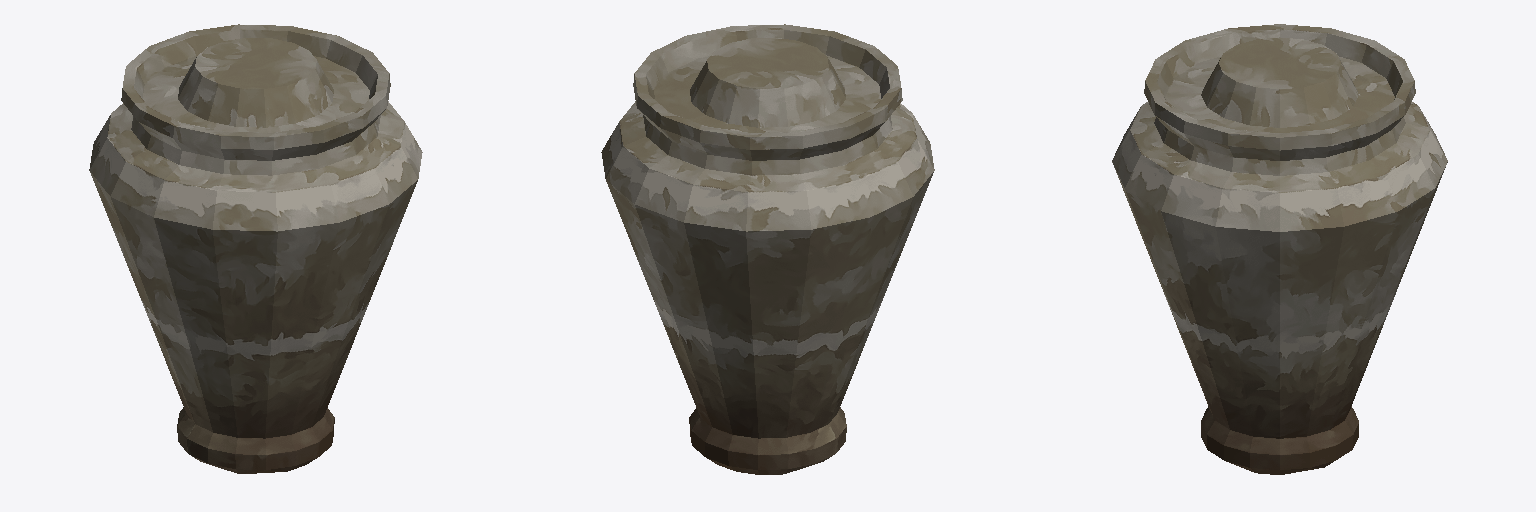
3 renders of one model, left to right at view 1: azimuth 30°, elevation 25°; view 2: azimuth 150°, elevation 25°; view 3: azimuth 270°, elevation 25°, orthographic.
Visible parts, largest first — view 1: Vert.006; view 2: Vert.006; view 3: Vert.006.
Boxes of the visible parts, x1,y1,x2,y2 form: Vert.006: [89, 24, 422, 473]; Vert.006: [601, 24, 934, 474]; Vert.006: [1112, 24, 1447, 474].
Bounding box in the file's own units: 8.06 × 10.19 × 8.06.
1 materials, 1 textured.